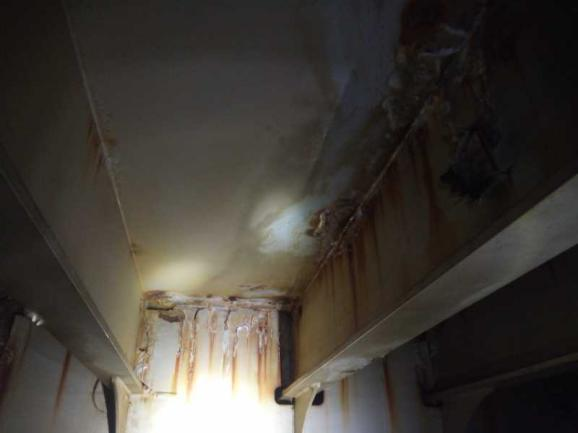corrosion: (326, 224, 383, 329), (299, 197, 365, 244), (365, 361, 407, 433), (169, 308, 197, 397), (4, 306, 30, 400), (253, 319, 277, 405), (50, 345, 76, 421), (130, 321, 152, 386), (228, 316, 246, 390), (328, 377, 359, 419), (197, 310, 218, 367), (138, 286, 168, 315)
